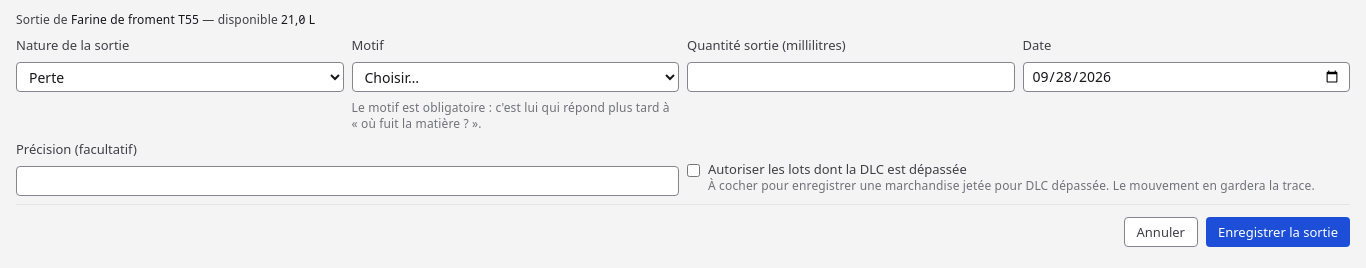
Test: SaisieSortie — refus de saisie : aucun appel réseau ne part sur un formulaire incomplet › une quantité vide bloque, et le message nomme l’unité de RÉFÉRENCE de l’ingrédient
Select "Casse ou renversement au transport" in the dropdown labelled "Motif": {"x": 515, "y": 77} 352,62 -> 679,92
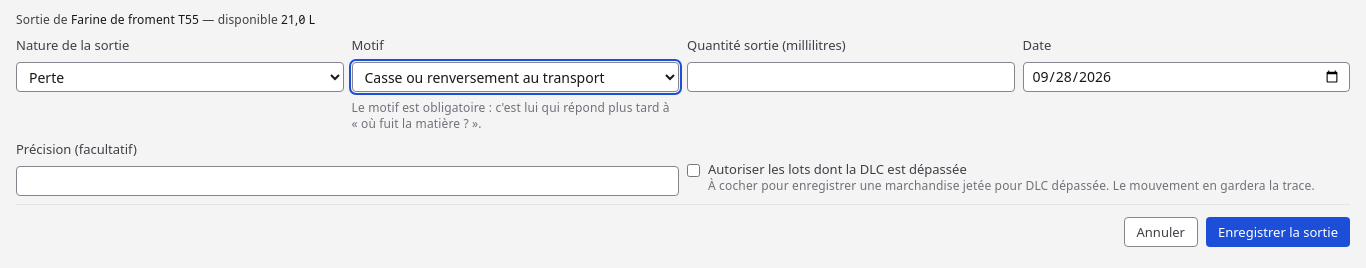
Click the button "Enregistrer la sortie": {"x": 1278, "y": 232} 1206,217 -> 1350,247
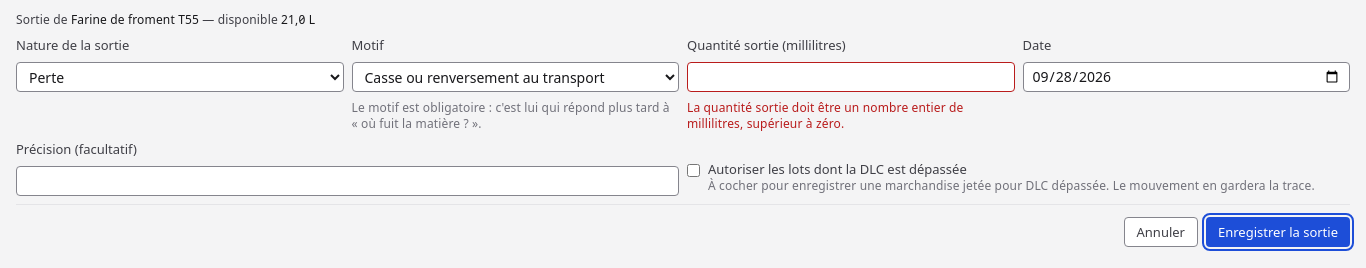
Expected: the text "La quantité sortie doit être un nombre entier de millilitres, supérieur à zéro." is shown, 687,99 -> 964,132
